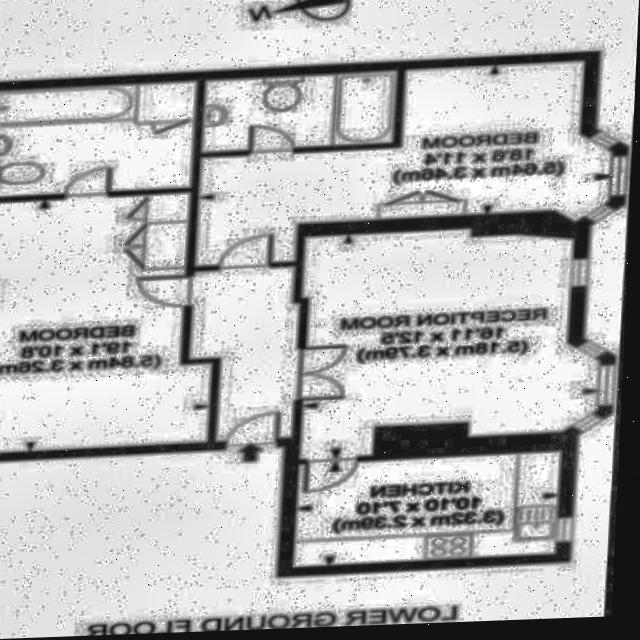room: (172, 43, 620, 274), (289, 221, 603, 459), (0, 190, 215, 451), (291, 450, 568, 566), (0, 80, 202, 195), (186, 259, 303, 444), (199, 70, 401, 151)
